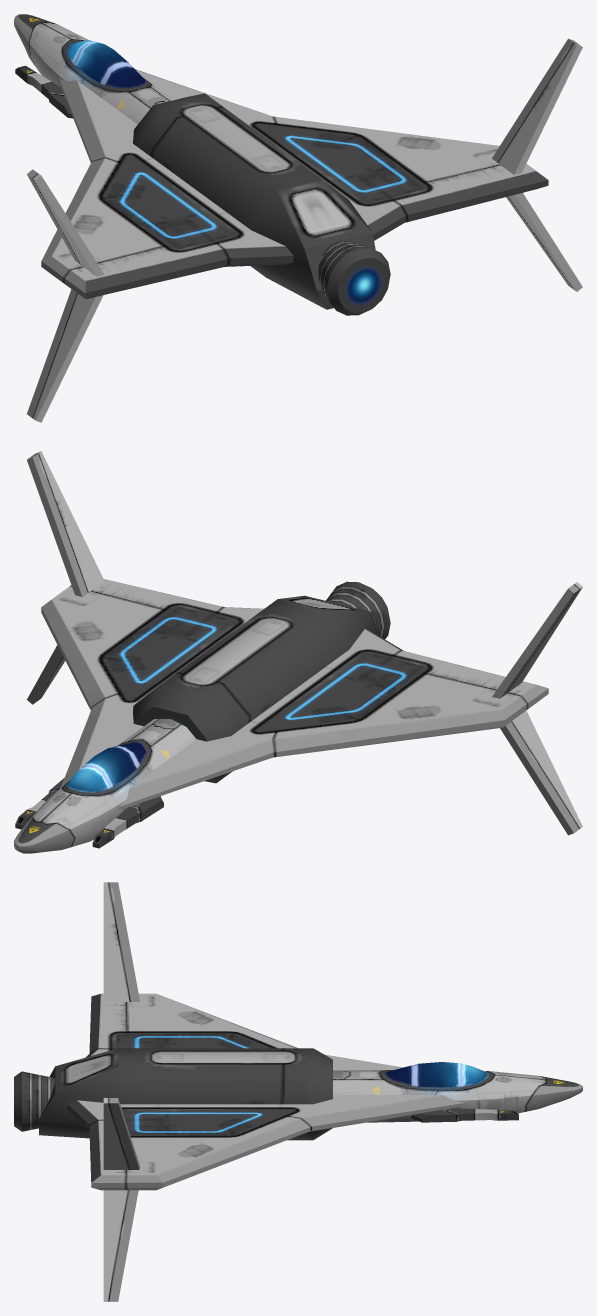
Rendered from scout6.gltf.
3 renders of one model, top to bottom at view 1: azimuth 30°, elevation 25°; view 2: azimuth 150°, elevation 25°; view 3: azimuth 270°, elevation 25°, orthographic. The views are drawn at different scales.
Parts seen in each view (by area): view 1: scout6; view 2: scout6; view 3: scout6.
Boxes of the visible parts, x1=… form: scout6: x1=14, y1=14, x2=582, y2=422; scout6: x1=14, y1=451, x2=582, y2=853; scout6: x1=14, y1=882, x2=582, y2=1301.
Bounding box in the file's own units: 11.93 × 5.14 × 13.03.
Materials: 1 (1 with a texture image).
